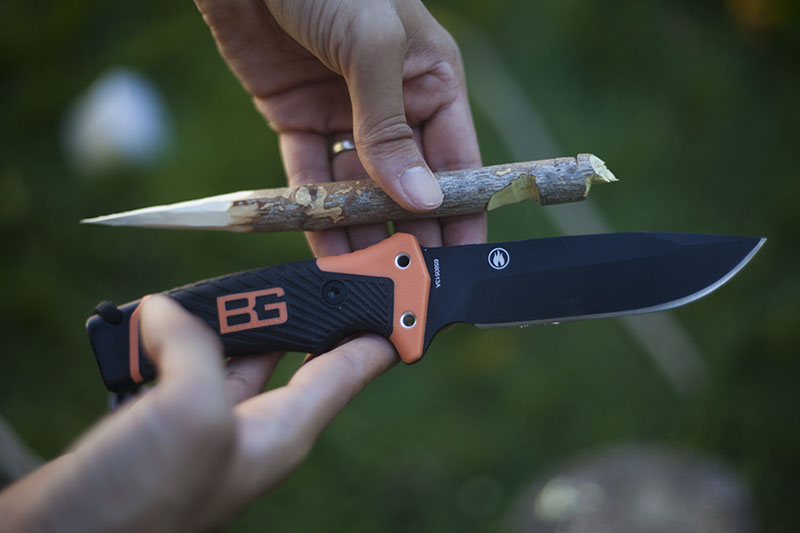knife: (251, 224, 779, 419)
